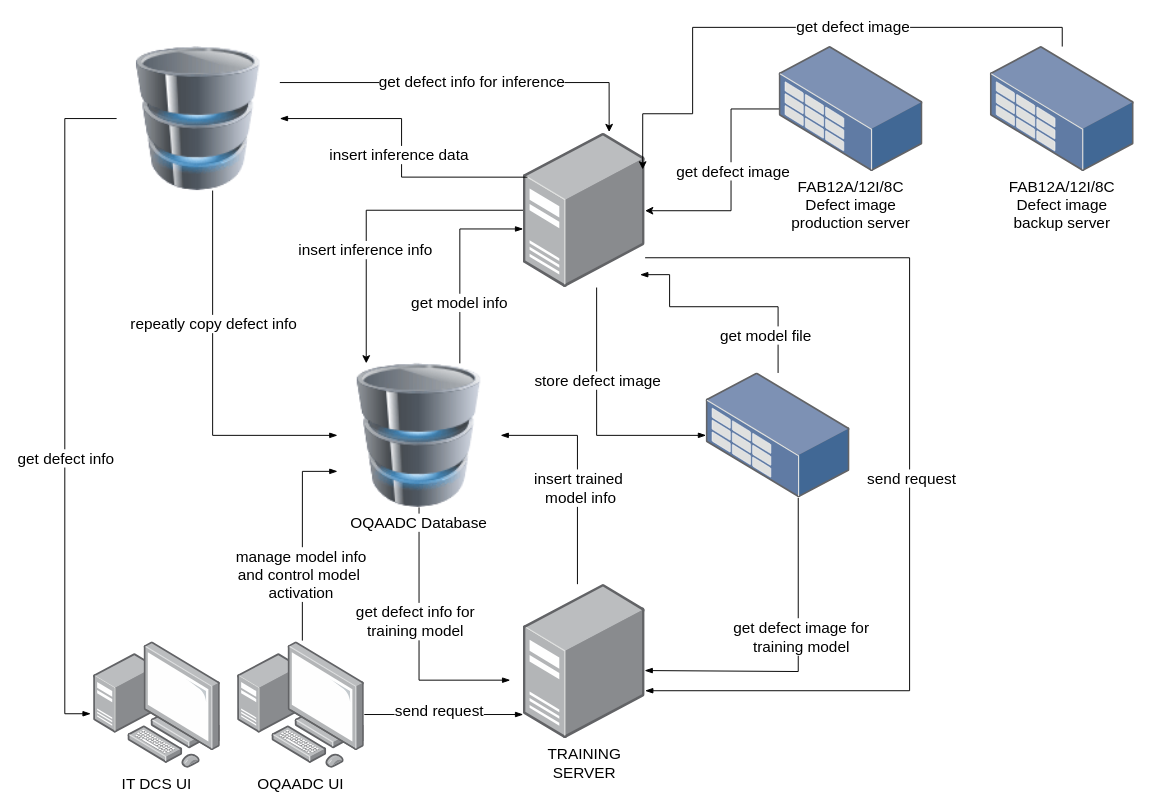
Image size: 1150x809. Some labels were removed from this diagram. The shapes that lost their labels are listed below. From the top down, each one's centre as x and y in pixels, then its label:
the point at 197,118: FAB12A/12I/8C Dcs Production DB
the point at 584,209: INFERENCE SERVER
the point at 778,434: storage server
